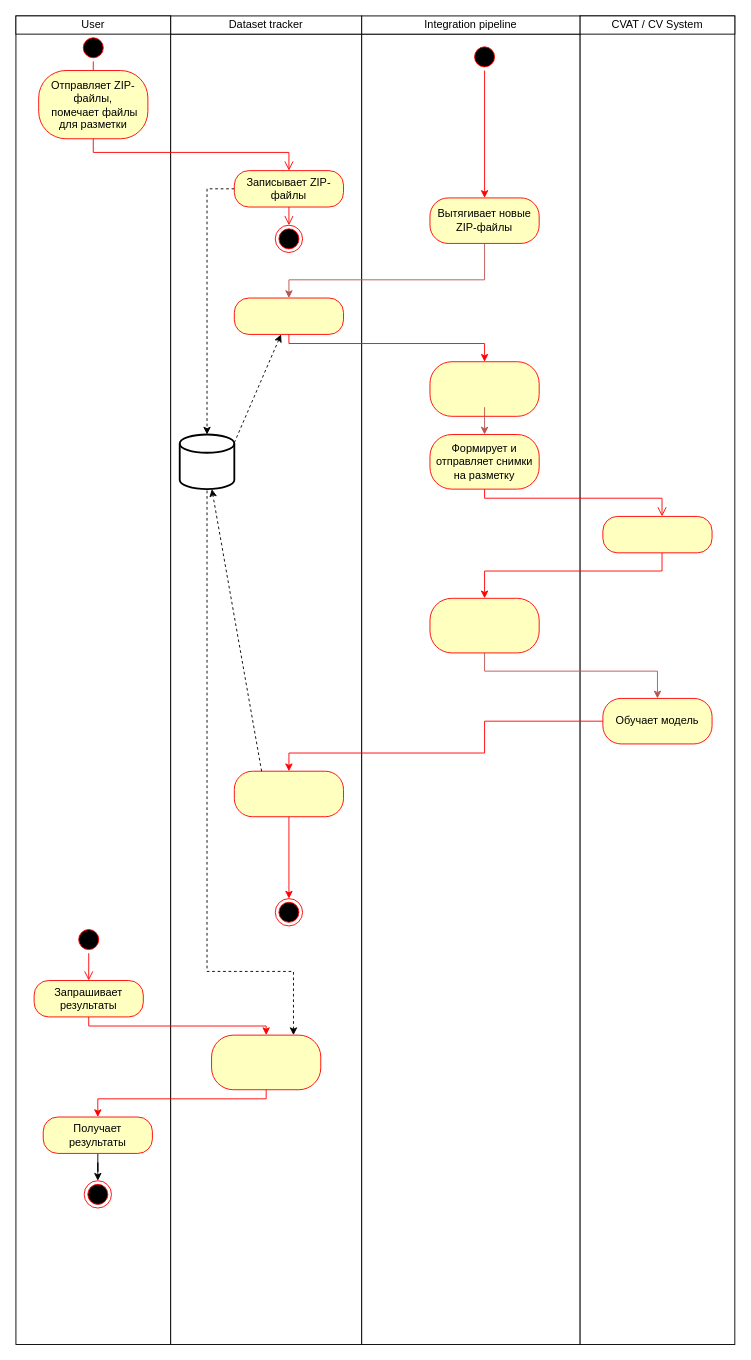
Some shapes in this 751 by 1360 pixel diagram are drawn without their labels. The box of each missing label's shape, as (x1, y1, x2, y2) in pixels:
Выдает ZIP-файлы: (233, 297, 344, 334)
Выдает результаты обучения для датасета: (211, 1034, 321, 1090)
Записывает результаты обучения: (233, 770, 344, 817)
Получает снимки для обучения модели: (429, 597, 539, 653)
Размечает снимки: (602, 516, 712, 553)
Экстрактит и конвертирует ZIP-файлы в снимки: (429, 361, 539, 416)
